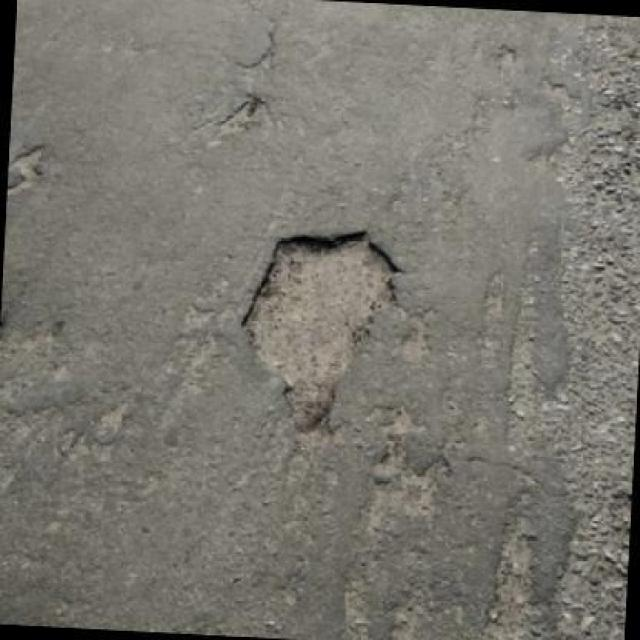pothole: (242, 232, 398, 434)
